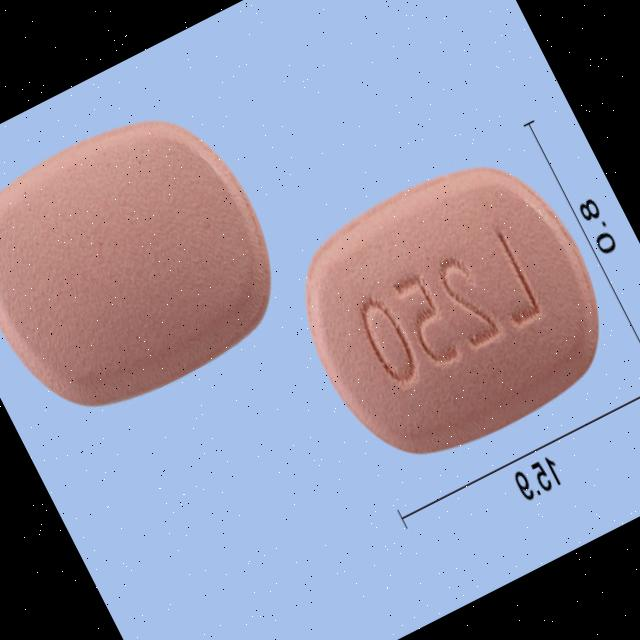Levoby - 500mg: (267, 129, 634, 486), (0, 82, 307, 439)
